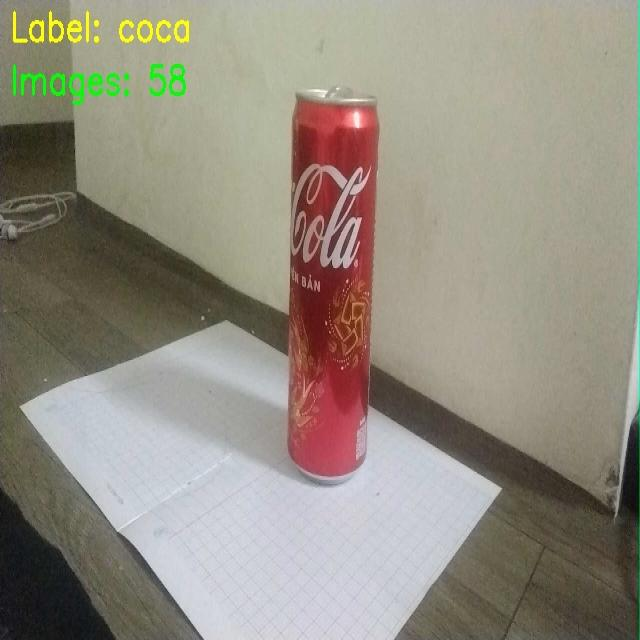Coca: (280, 88, 398, 510)
